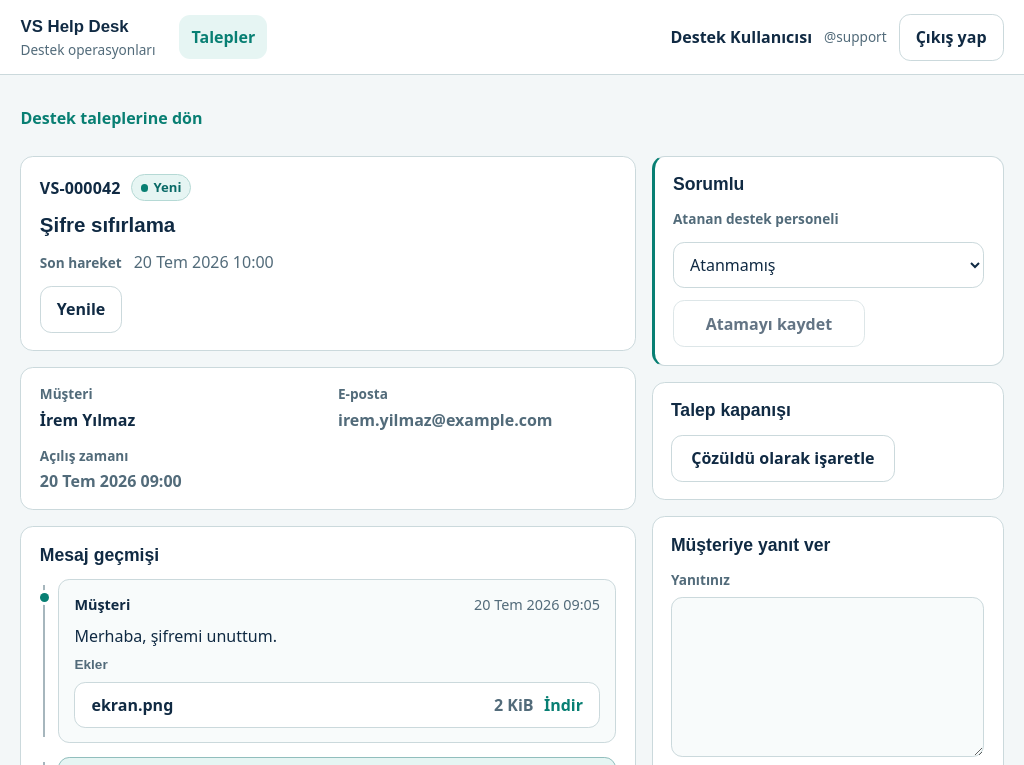
Scenario: TicketDetailPage › shows distinct download error alerts without raw response text
Click the button "ekran.png 2 KiB İndir".
click(132, 705)  # box [74, 682, 600, 728]
(page scrolled)
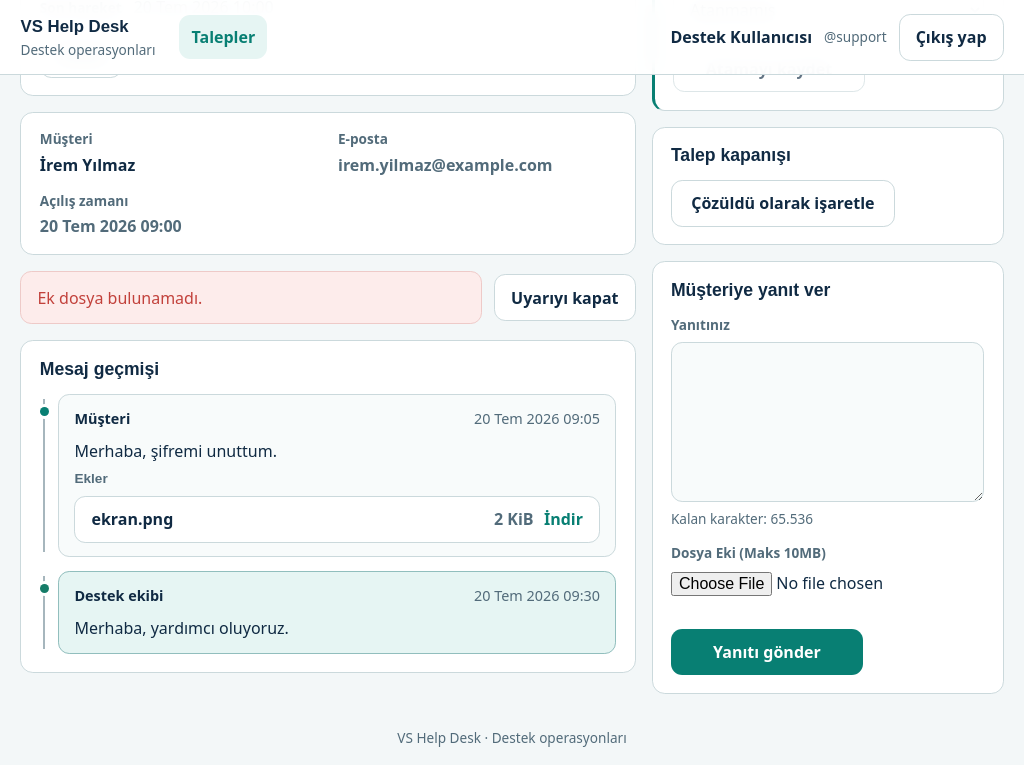
Check: the message does not show "not found body", box [20, 271, 636, 324]
Check: the message shows "Ek dosya bulunamadı.", box [38, 287, 202, 309]
Click the button "ekran.png 2 KiB İndir".
click(132, 519)  # box [74, 496, 600, 543]
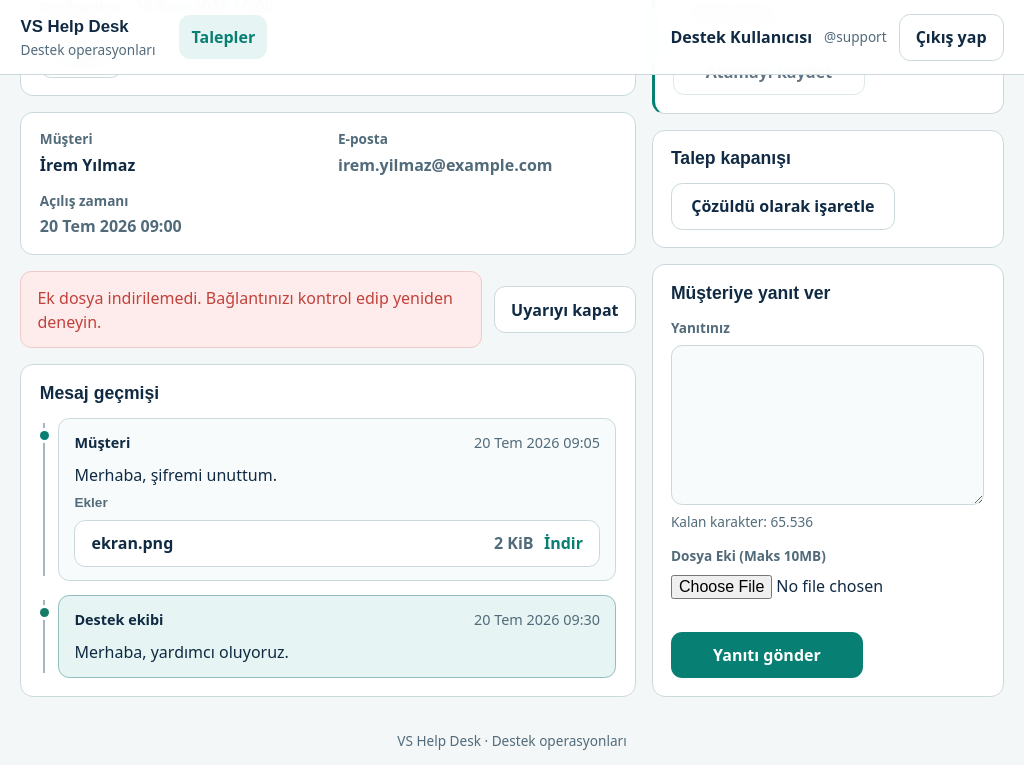
Check: the message shows "Ek dosya indirilemedi. Bağlantınızı kontrol edip yeniden deneyin.", box [38, 287, 453, 333]
Click the button "ekran.png 2 KiB İndir".
click(132, 543)  # box [74, 520, 600, 567]
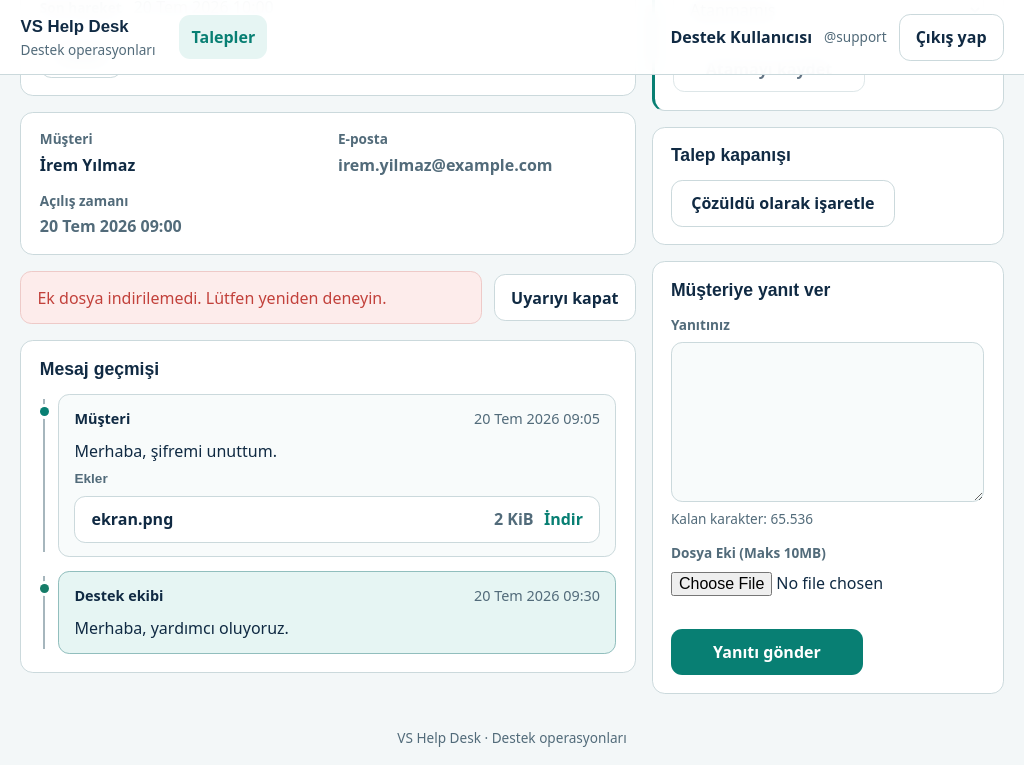
Check: the message does not show "upstream", box [20, 271, 636, 324]
Check: the message shows "Ek dosya indirilemedi. Lütfen yeniden deneyin.", box [38, 287, 386, 309]
